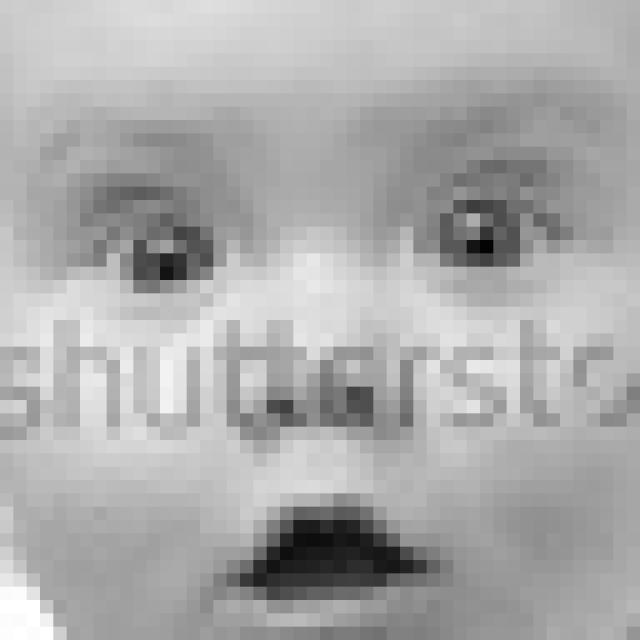surprise: (38, 92, 607, 640)
